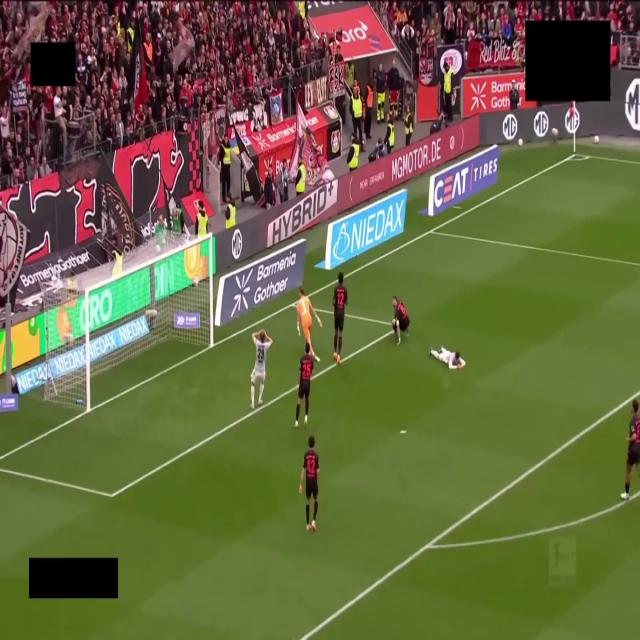ball: (146, 308, 157, 317)
player: (299, 436, 319, 531), (621, 400, 639, 500), (297, 288, 321, 361), (251, 330, 272, 408), (295, 343, 313, 427), (333, 272, 347, 364), (392, 296, 409, 344), (429, 347, 465, 369)
